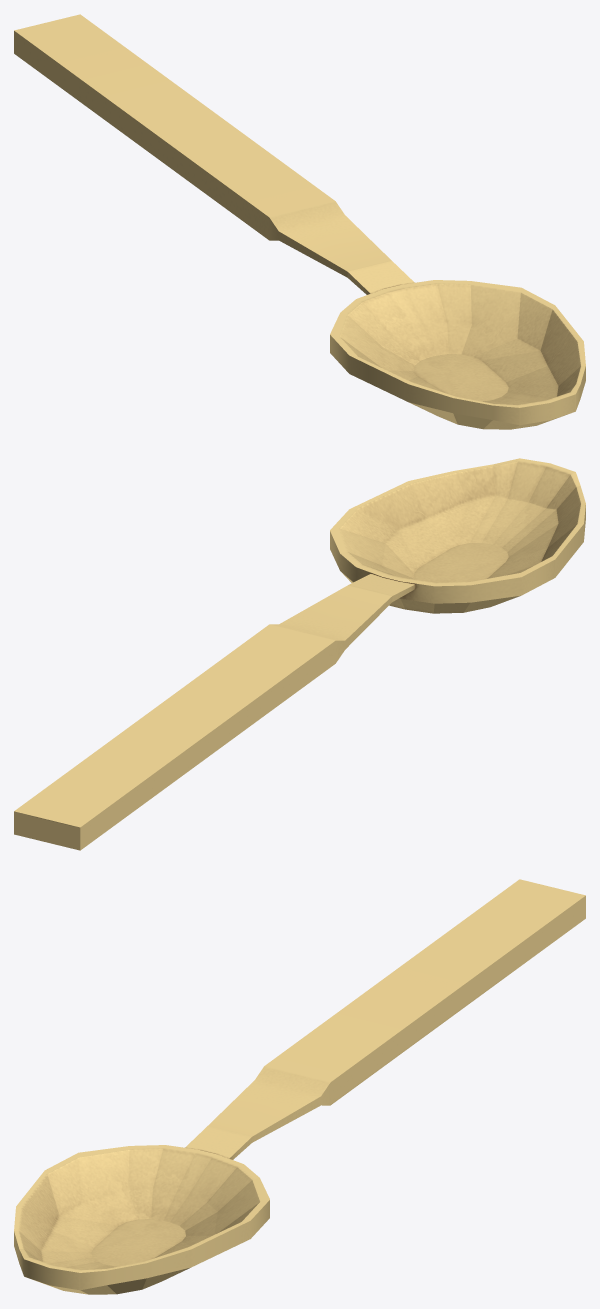
File: fbx_Colher.fbx
3 views of the same model, one above another, from view 1: azimuth 30°, elevation 25°; view 2: azimuth 150°, elevation 25°; view 3: azimuth 330°, elevation 25° (orthographic).
Parts seen in each view (by area): view 1: pCube246; view 2: pCube246; view 3: pCube246.
Boxes of the visible parts, x1,y1,x2,y2 form: pCube246: [14, 14, 585, 429]; pCube246: [14, 458, 585, 850]; pCube246: [14, 879, 585, 1294].
Bounding box in the file's own units: 0.0465 × 0.012 × 0.197.
Materials: 1 (1 with a texture image).
